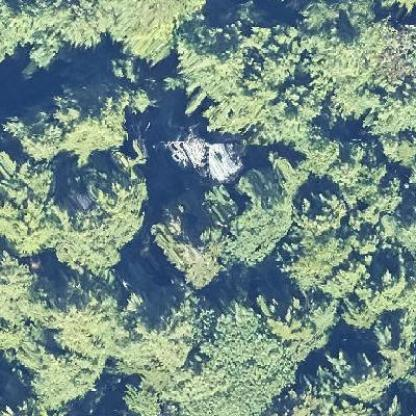tree-top: (47, 160, 153, 273), (111, 272, 202, 376), (0, 150, 67, 257), (48, 79, 136, 157), (324, 130, 396, 191), (281, 225, 348, 285), (248, 17, 304, 87), (357, 22, 414, 86), (159, 115, 207, 175), (200, 138, 246, 183)
